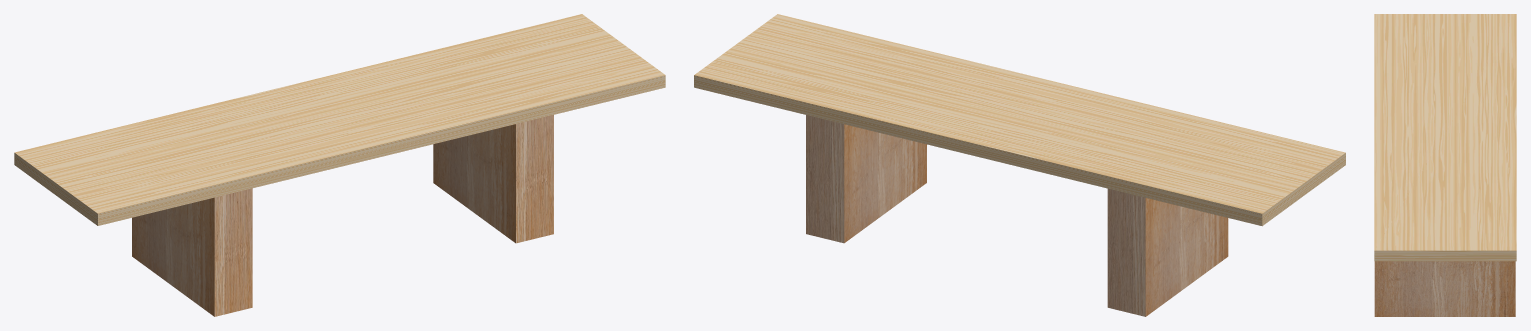
The model's file is kursi 1,2.fbx.
The picture shows the model from 3 angles, left to right: view 1: azimuth 30°, elevation 25°; view 2: azimuth 150°, elevation 25°; view 3: azimuth 270°, elevation 25°; orthographic projection. The views are drawn at different scales.
Visible parts, largest first — view 1: Papan3.005; view 2: Papan3.005; view 3: Papan3.005.
Part boxes in pixels (x1,y1,x2,y2): Papan3.005: (14, 14, 665, 316); Papan3.005: (694, 14, 1345, 316); Papan3.005: (1374, 14, 1516, 316).
Size of the model in its own units: 248 by 55.14 by 63.18.
